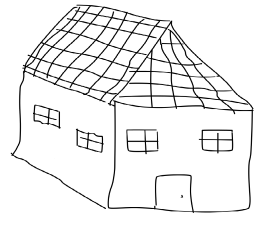big_house: (1, 1, 260, 226)
closed_window: (124, 123, 164, 158), (197, 124, 238, 157), (29, 100, 62, 137), (72, 127, 106, 158)
door: (148, 163, 204, 220)
roof: (9, 2, 257, 114)
wall: (105, 95, 255, 215)
